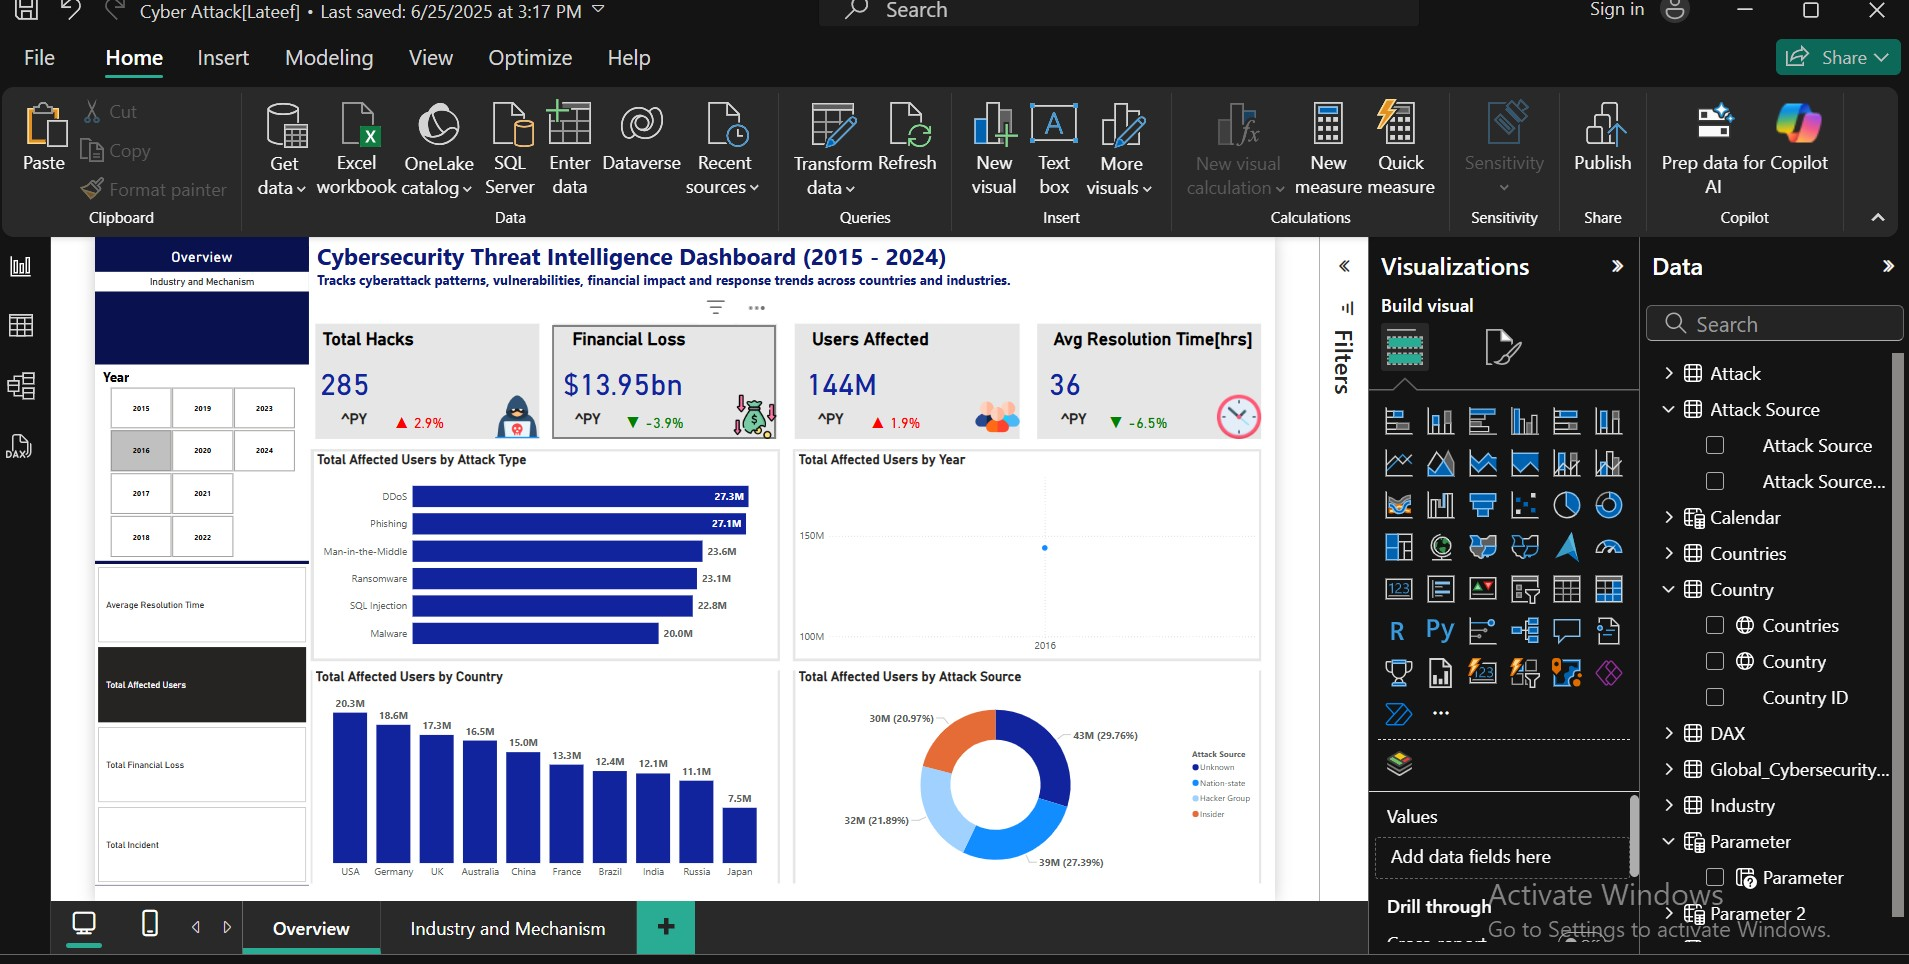

The page's visual inventory and layout, read from the dashboard file:
{"tool":"powerbi","page":{"name":"Overview","canvas":[1920,1080],"ordinal":0},"visuals":[{"type":"shape","box":[0,0,348.2,1055],"z":0},{"type":"cardVisual","title":"Total Hacks","fields":{"Data":["DAX.Count"]},"box":[348.2,143.9,379.5,183.5],"z":1000},{"type":"cardVisual","title":"Total Hacks","fields":{"Data":["DAX.Total Financial Loss"]},"box":[744.1,143.9,363.5,183],"z":2000},{"type":"cardVisual","title":"Total Hacks","fields":{"Data":["DAX.Total Affected Users"]},"box":[1138.9,143.6,365.4,183.9],"z":3000},{"type":"cardVisual","title":"Total Hacks","fields":{"Data":["DAX.Average Resolution Time"]},"box":[1534.5,143.6,365.4,183.9],"z":4000},{"type":"textbox","box":[355.3,143.6,176.4,47.9],"z":5000},{"type":"textbox","box":[750.9,143.6,234.3,47.9],"z":6000},{"type":"textbox","box":[1146.5,143.6,229.3,47.9],"z":7000},{"type":"card","fields":{"Values":["DAX.Count YoY"]},"box":[460.5,275.2,135.7,52.1],"z":8000,"group":"g1"},{"type":"textbox","box":[1542,143.6,357.8,47.9],"z":8000},{"type":"card","fields":{"Values":["DAX.Financial Loss YoY"]},"box":[834,275.2,150.1,52.1],"z":9000},{"type":"textbox","box":[354.4,275.2,135.7,52.1],"z":9001,"group":"g1"},{"type":"card","fields":{"Values":["DAX.Affected Users YoY"]},"box":[1228,275.2,148,52.1],"z":10000},{"type":"card","fields":{"Values":["DAX.Resolution time YoY"]},"box":[1624.2,275.2,141.8,52.1],"z":11000},{"type":"slicer","fields":{"Values":["Calendar.Year"]},"box":[0,207.4,348.9,319.6],"z":12000},{"type":"textbox","box":[744.3,275.2,114.7,52.1],"z":13000},{"type":"textbox","box":[1138.4,275.2,114.7,52.1],"z":14000},{"type":"textbox","box":[1534.5,275.2,114.7,52.1],"z":15000},{"type":"group","id":"g1","title":"Group 1","box":[354.4,275.2,241.9,52.1],"z":16000},{"type":"pageNavigator","box":[0,14.6,348.9,75.6],"z":19000},{"type":"textbox","box":[356.2,0,1183,143],"z":21000},{"type":"advancedSlicerVisual","fields":{"Values":["Parameter.Parameter"]},"box":[0,531.9,348.9,522.1],"z":21001},{"type":"barChart","fields":{"Category":["Attack.Attack Type"],"Y":["DAX.Total Affected Users"]},"box":[356.2,348.9,753.9,336.7],"z":21002},{"type":"lineChart","fields":{"Category":["Calendar.Year"],"Y":["DAX.Total Affected Users"]},"box":[1139.4,348.9,753.9,336.7],"z":21003},{"type":"columnChart","fields":{"Category":["Country.Country"],"Y":["DAX.Total Affected Users"]},"box":[353.8,702.7,756.3,351.3],"z":21004},{"type":"donutChart","fields":{"Category":["Attack Source.Attack Source"],"Y":["DAX.Total Affected Users"]},"box":[1139.4,702.7,753.9,351.3],"z":21005}]}

Visuals, with their boxes on the page's 1920x1080 design canvas (x1, y1, x2, y2). These are canvas units, not pixel positions in the 1909x964 screenshot, which may show the page scaled, cropped or inside an application window:
shape: l=0, t=0, r=348, b=1055
"Total Hacks" cardVisual: l=348, t=144, r=728, b=327
"Total Hacks" cardVisual: l=744, t=144, r=1108, b=327
"Total Hacks" cardVisual: l=1139, t=144, r=1504, b=328
"Total Hacks" cardVisual: l=1534, t=144, r=1900, b=328
textbox: l=355, t=144, r=532, b=192
textbox: l=751, t=144, r=985, b=192
textbox: l=1146, t=144, r=1376, b=192
card - DAX.Count YoY: l=460, t=275, r=596, b=327
textbox: l=1542, t=144, r=1900, b=192
card - DAX.Financial Loss YoY: l=834, t=275, r=984, b=327
textbox: l=354, t=275, r=490, b=327
card - DAX.Affected Users YoY: l=1228, t=275, r=1376, b=327
card - DAX.Resolution time YoY: l=1624, t=275, r=1766, b=327
slicer - Calendar.Year: l=0, t=207, r=349, b=527
textbox: l=744, t=275, r=859, b=327
textbox: l=1138, t=275, r=1253, b=327
textbox: l=1534, t=275, r=1649, b=327
"Group 1" group: l=354, t=275, r=596, b=327
pageNavigator: l=0, t=15, r=349, b=90
textbox: l=356, t=0, r=1539, b=143
advancedSlicerVisual - Parameter.Parameter: l=0, t=532, r=349, b=1054
barChart - Attack.Attack Type x DAX.Total Affected Users: l=356, t=349, r=1110, b=686
lineChart - Calendar.Year x DAX.Total Affected Users: l=1139, t=349, r=1893, b=686
columnChart - Country.Country x DAX.Total Affected Users: l=354, t=703, r=1110, b=1054
donutChart - Attack Source.Attack Source x DAX.Total Affected Users: l=1139, t=703, r=1893, b=1054
